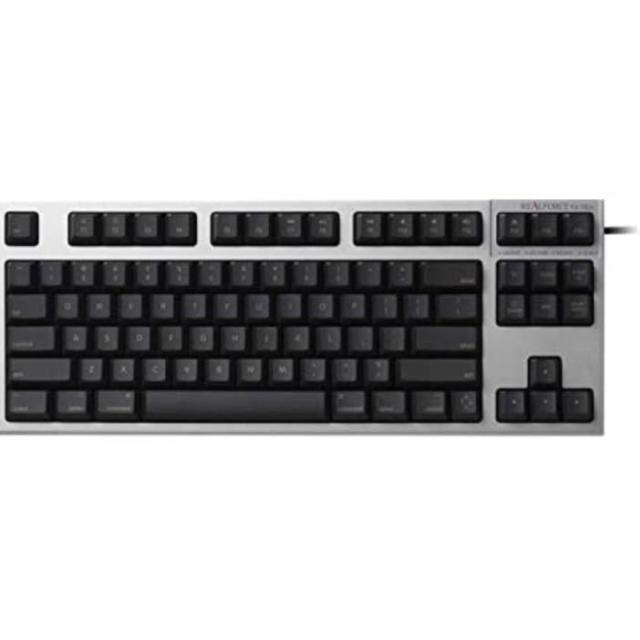keyboard: (1, 200, 608, 437)
